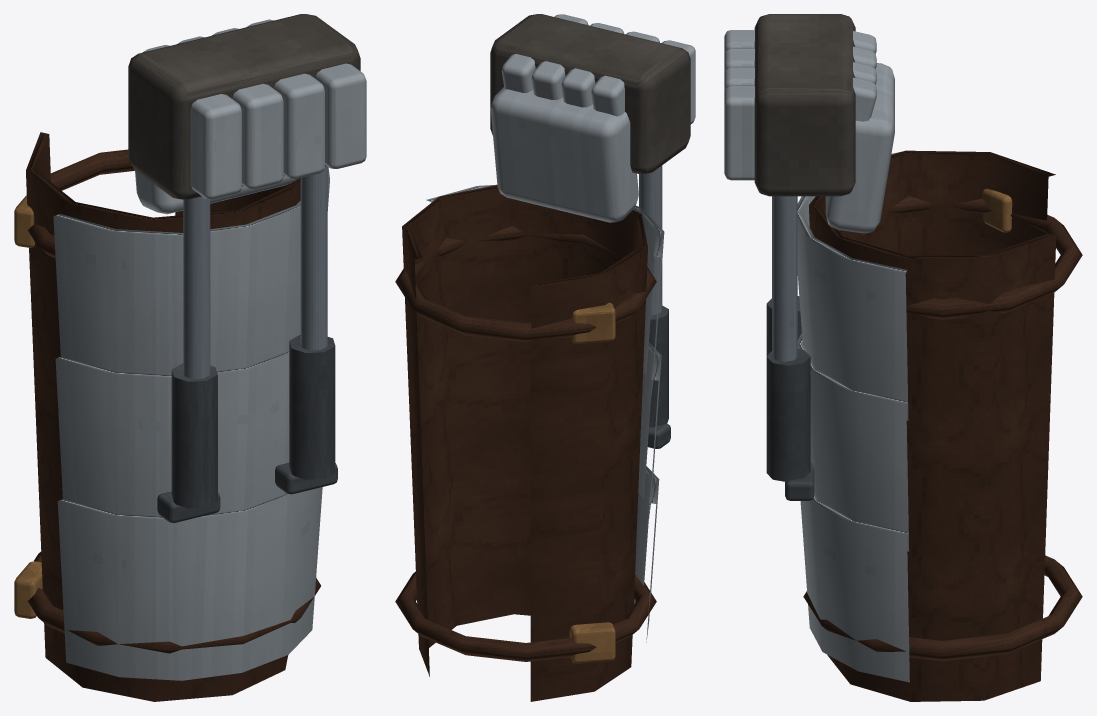
Rendered from power-knuckles.lod2.glb.
3 views of the same model, side by side, from view 1: azimuth 30°, elevation 25°; view 2: azimuth 150°, elevation 25°; view 3: azimuth 270°, elevation 25° (orthographic). The views are drawn at different scales.
Visible parts, largest first — view 1: steel / forged blade steel, leather / oiled leather wrap, iron / hammer-scaled wrought iron, darksteel / oil-blackened fittings, alloy / machined anodized alloy, bronze / cast bronze with patina; view 2: leather / oiled leather wrap, steel / forged blade steel, iron / hammer-scaled wrought iron, bronze / cast bronze with patina, darksteel / oil-blackened fittings, alloy / machined anodized alloy; view 3: leather / oiled leather wrap, steel / forged blade steel, iron / hammer-scaled wrought iron, darksteel / oil-blackened fittings, alloy / machined anodized alloy, bronze / cast bronze with patina.
Part boxes in pixels (x1,y1,x2,y2): steel / forged blade steel: (53, 19, 366, 680); leather / oiled leather wrap: (26, 132, 320, 701); iron / hammer-scaled wrought iron: (128, 14, 360, 199); darksteel / oil-blackened fittings: (157, 334, 337, 522); alloy / machined anodized alloy: (183, 166, 327, 379); bronze / cast bronze with patina: (14, 195, 42, 618); leather / oiled leather wrap: (395, 185, 656, 701); steel / forged blade steel: (426, 14, 695, 642); iron / hammer-scaled wrought iron: (490, 14, 690, 174); bronze / cast bronze with patina: (569, 302, 615, 663); darksteel / oil-blackened fittings: (647, 305, 670, 448); alloy / machined anodized alloy: (639, 165, 662, 314); leather / oiled leather wrap: (803, 150, 1082, 701); steel / forged blade steel: (724, 30, 909, 682); iron / hammer-scaled wrought iron: (754, 14, 855, 196); darksteel / oil-blackened fittings: (766, 296, 814, 500); alloy / machined anodized alloy: (772, 196, 797, 361); bronze / cast bronze with patina: (982, 188, 1012, 232).
Bounding box in the file's own units: 0.1579 × 0.3625 × 0.195.
7 materials, 6 textured.
